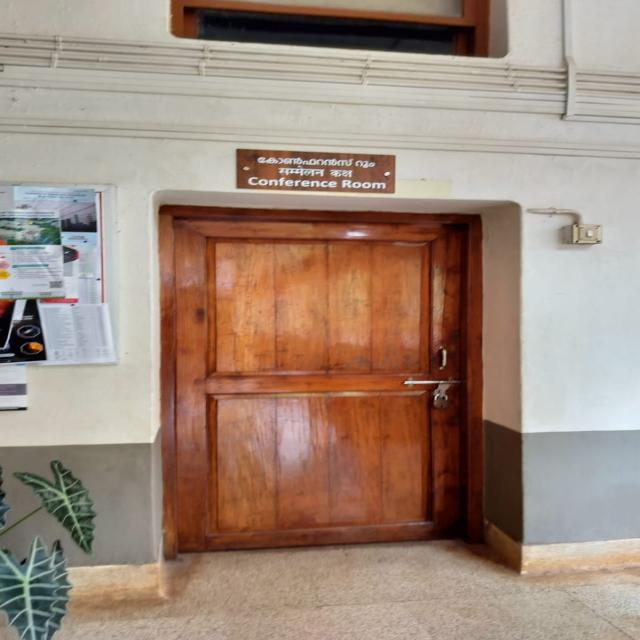Door ahead at: (172, 209, 474, 540)
